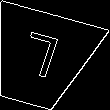L_S: (15, 30, 65, 88)
